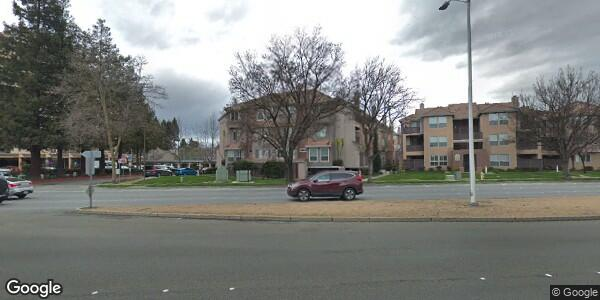Steel_Pole: (434, 1, 481, 207)
